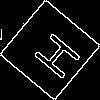H: (25, 25, 83, 82)
